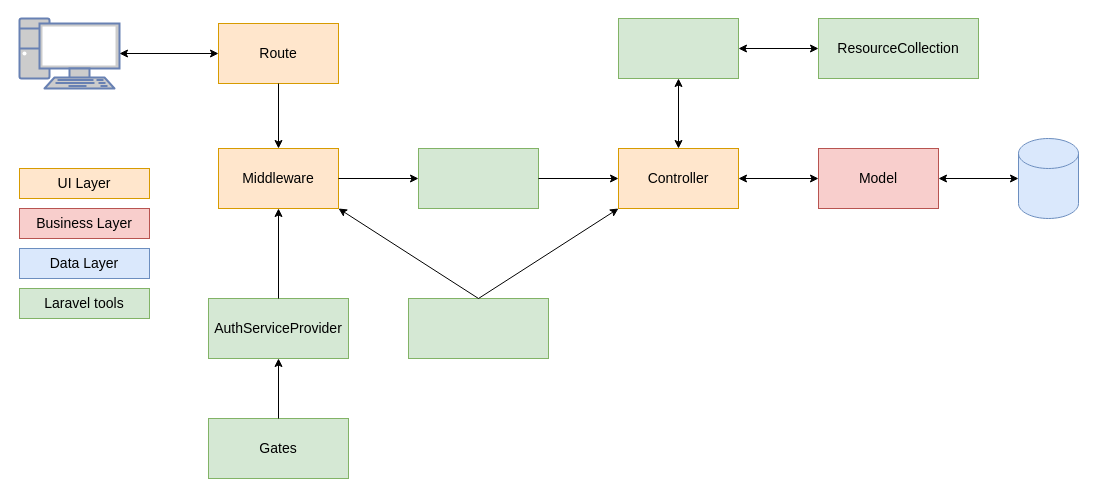
The diagram is 1096 pixels wide and 496 high, and some of its shapes have lost their labels. Here are the shapes that lost their labels. From the top down, the centre of each, then its label:
At pixel 69 53: "Client / Frontend".
At pixel 678 48: "Resource".
At pixel 478 178: "ModelRequest".
At pixel 1048 178: "DB".
At pixel 478 328: "ModelPolicy".
